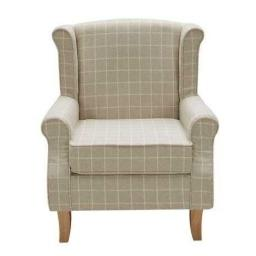Chair: (51, 19, 217, 242)
